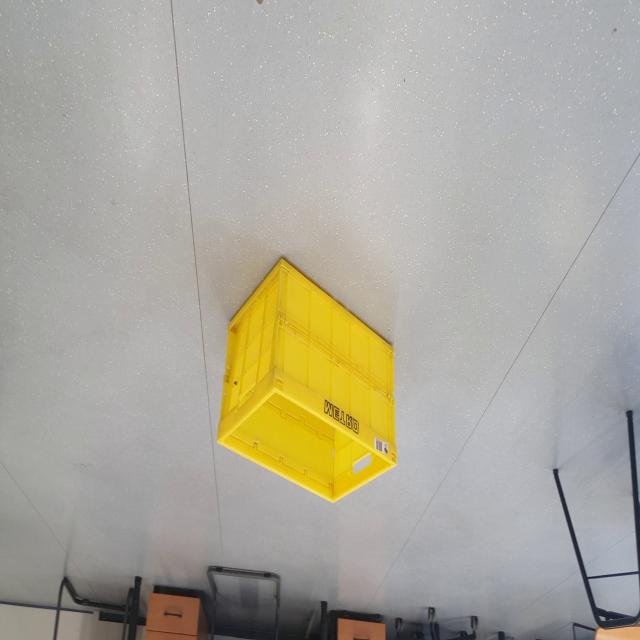box: (208, 246, 402, 509)
